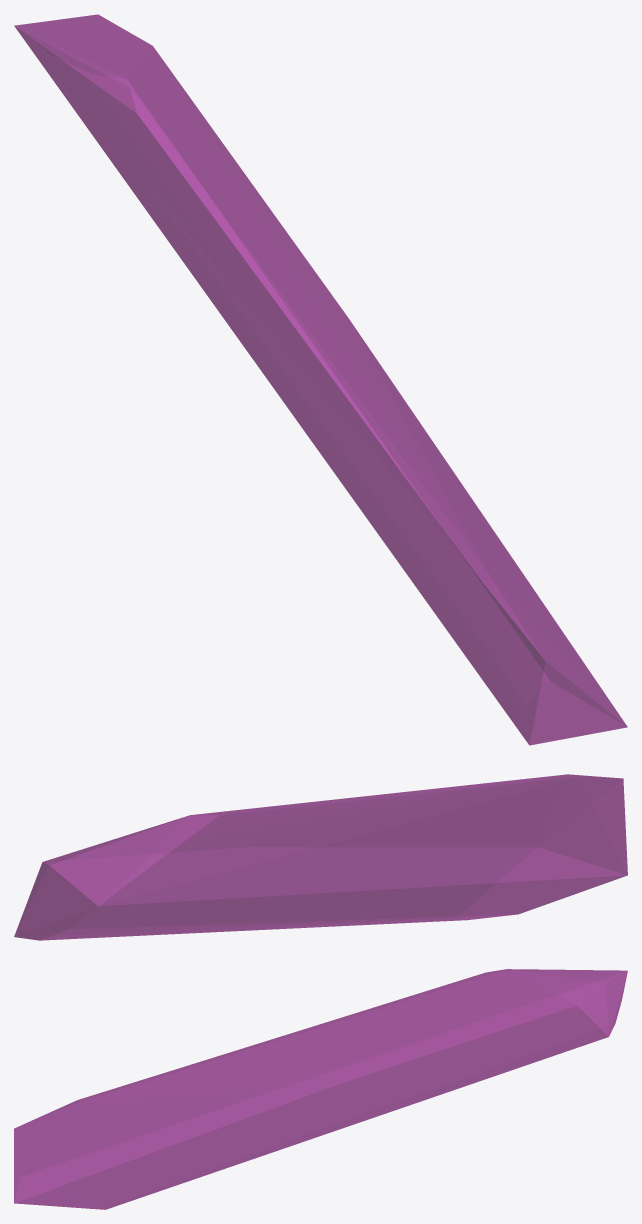
3 views of the same model, one above another, from view 1: azimuth 30°, elevation 25°; view 2: azimuth 150°, elevation 25°; view 3: azimuth 270°, elevation 25° (orthographic). The views are drawn at different scales.
Visible parts, largest first — view 1: Shape_IndexedFaceSet.095_Shape_IndexedFaceSet.9903; view 2: Shape_IndexedFaceSet.095_Shape_IndexedFaceSet.9903; view 3: Shape_IndexedFaceSet.095_Shape_IndexedFaceSet.9903.
Boxes of the visible parts, left/top/right/bottom form: Shape_IndexedFaceSet.095_Shape_IndexedFaceSet.9903: left=14, top=14, right=627, bottom=745; Shape_IndexedFaceSet.095_Shape_IndexedFaceSet.9903: left=14, top=774, right=627, bottom=940; Shape_IndexedFaceSet.095_Shape_IndexedFaceSet.9903: left=14, top=969, right=627, bottom=1209.
Size of the model in its own units: 0.0533 by 0.1931 by 0.4952.
